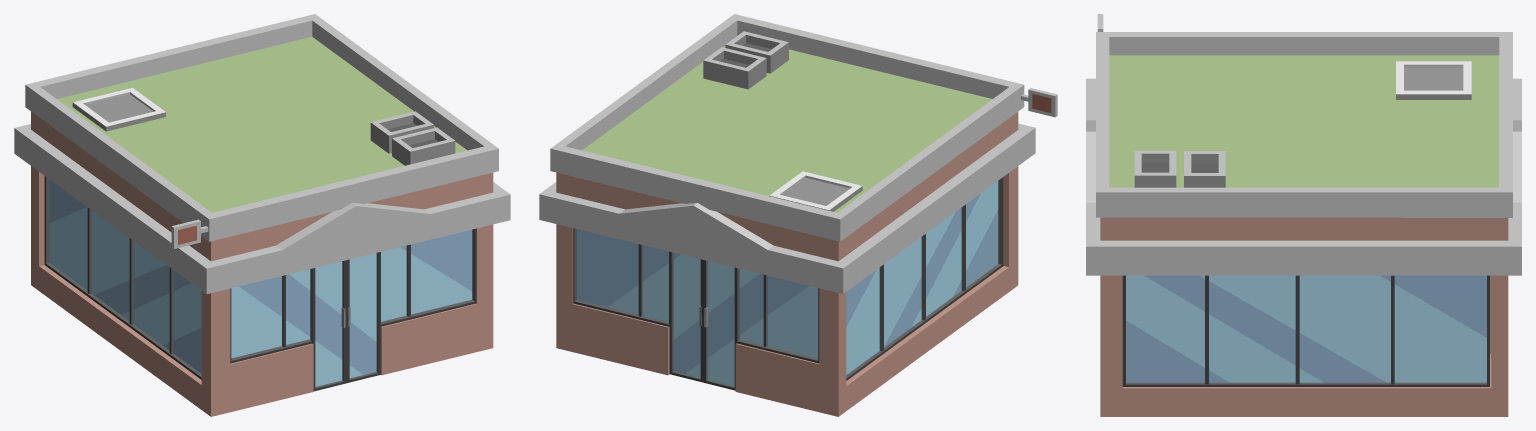
Rendered from cafe_001.glb.
The picture shows the model from 3 angles, left to right: view 1: azimuth 30°, elevation 25°; view 2: azimuth 150°, elevation 25°; view 3: azimuth 270°, elevation 25°; orthographic projection. The views are drawn at different scales.
Parts seen in each view (by area): view 1: cafe_001; view 2: cafe_001; view 3: cafe_001.
Part boxes in pixels (x1,y1,x2,y2): cafe_001: [14, 14, 510, 416]; cafe_001: [539, 14, 1057, 416]; cafe_001: [1086, 14, 1521, 416].
Size of the model in its own units: 5.94 by 3.46 by 5.97.
Materials: 1 (1 with a texture image).
